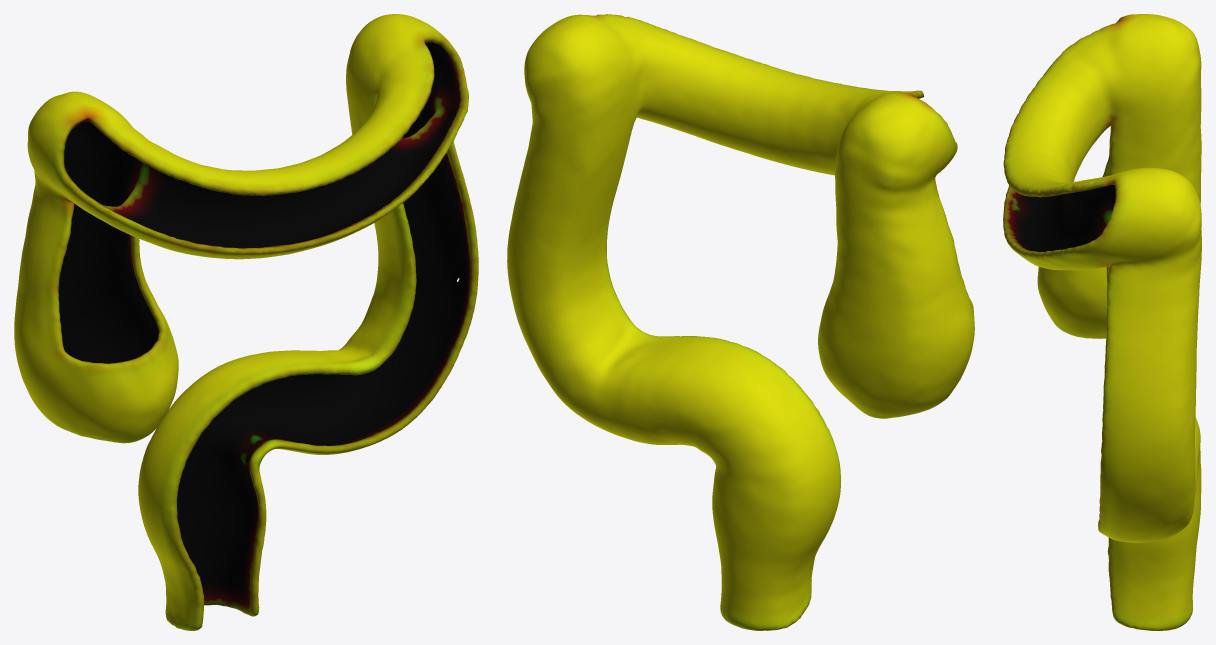
The model's file is colon.glb.
3 views of the same model, side by side, from view 1: azimuth 30°, elevation 25°; view 2: azimuth 150°, elevation 25°; view 3: azimuth 270°, elevation 25° (orthographic). The views are drawn at different scales.
Visible parts, largest first — view 1: colon; view 2: colon; view 3: colon.
Boxes of the visible parts, x1,y1,x2,y2 form: colon: [14, 14, 478, 630]; colon: [507, 14, 974, 630]; colon: [1003, 14, 1201, 630].
Bounding box in the file's own units: 8.44 × 10 × 3.36.
